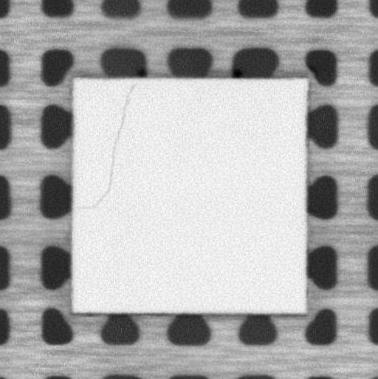DIE_CRACK: (79, 83, 137, 212)
